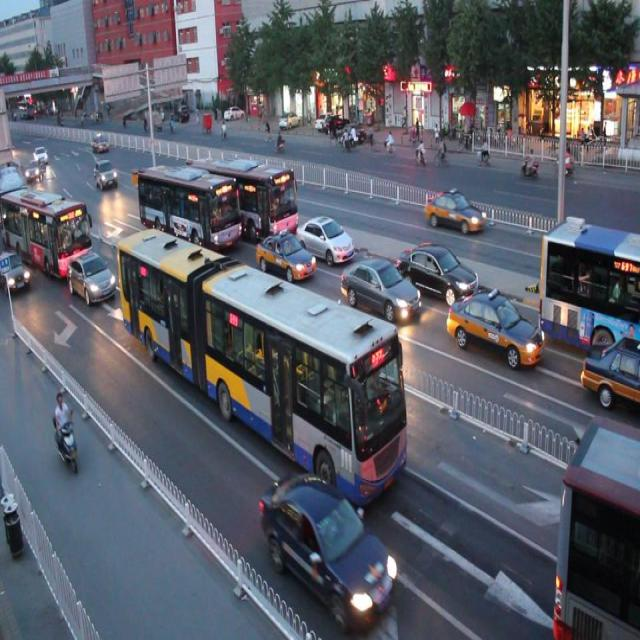car: (257, 466, 395, 626), (446, 288, 546, 370), (340, 256, 420, 324), (396, 239, 476, 307), (580, 337, 640, 406), (255, 230, 315, 282), (424, 187, 486, 235), (297, 216, 353, 266), (68, 250, 115, 305), (1, 246, 33, 294)
van: (117, 224, 407, 506), (554, 422, 640, 640), (539, 219, 640, 351), (140, 161, 242, 253), (192, 155, 298, 240), (1, 188, 92, 280)
